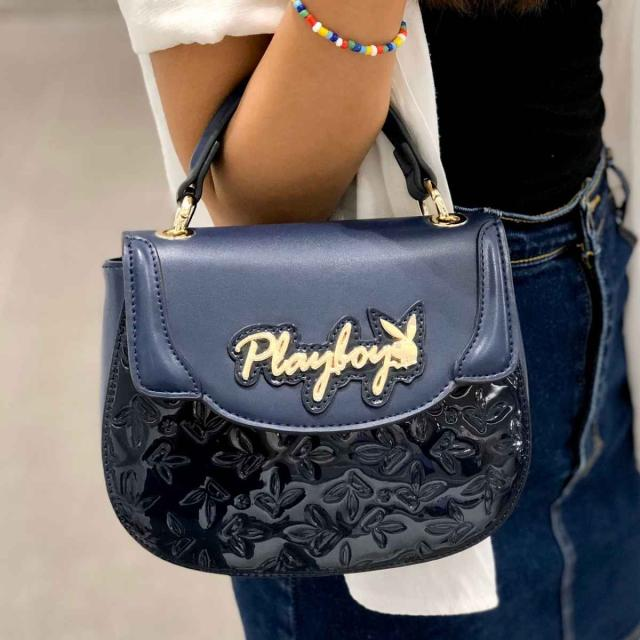Handbag: (97, 185, 526, 586)
